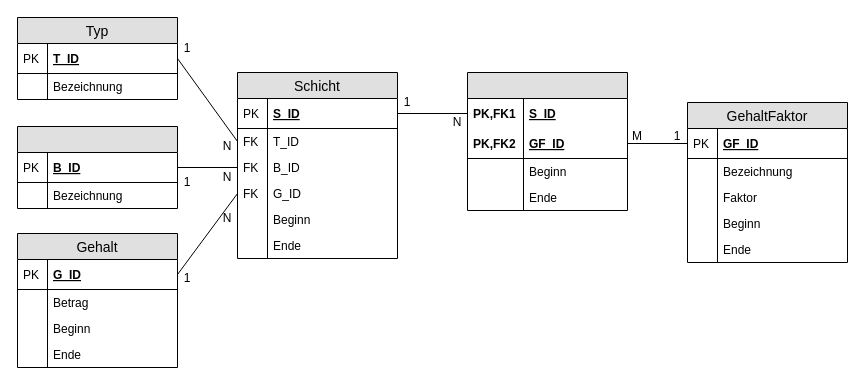
Some shapes in this 865 by 388 pixel diagram are drawn without their labels. Each missing label, with the box of its shape:
Bereich: (16, 126, 178, 208)
Zeitraum: (466, 72, 628, 210)
